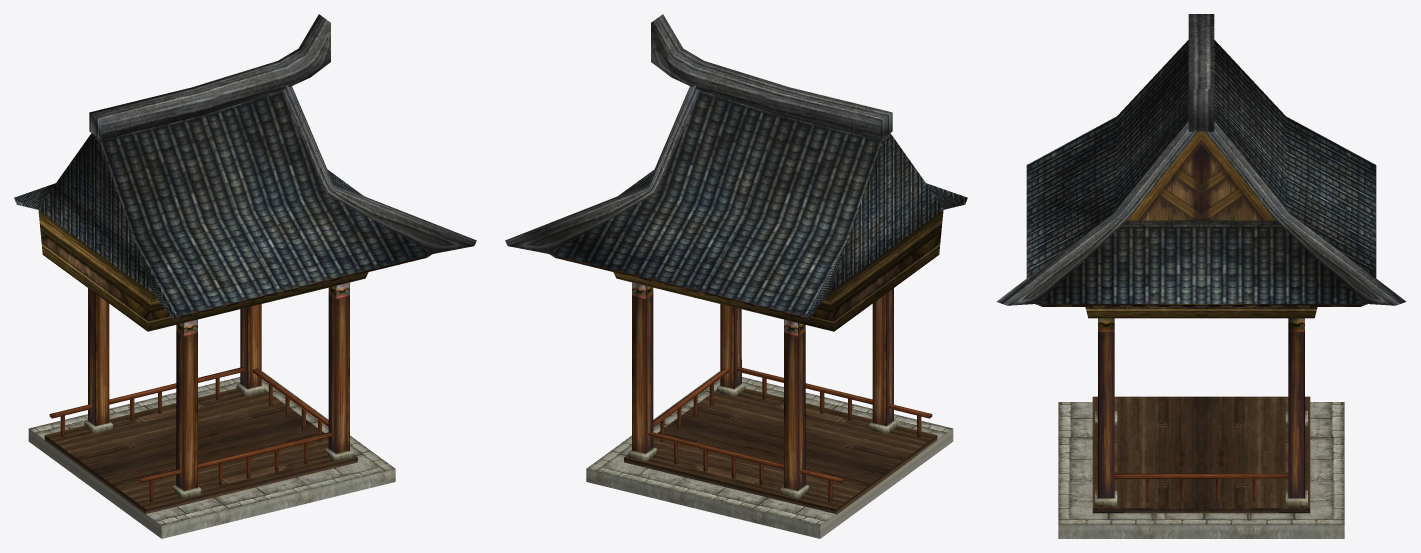
The model's file is b-general_external04.fbx.
3 views of the same model, side by side, from view 1: azimuth 30°, elevation 25°; view 2: azimuth 150°, elevation 25°; view 3: azimuth 270°, elevation 25° (orthographic). The views are drawn at different scales.
Visible parts, largest first — view 1: B-general_external01; view 2: B-general_external01; view 3: B-general_external01.
Part boxes in pixels (x1,y1,x2,y2): B-general_external01: (14,14,476,538); B-general_external01: (505,14,967,538); B-general_external01: (996,14,1406,538).
Size of the model in its own units: 15.18 by 20.7 by 17.19.
